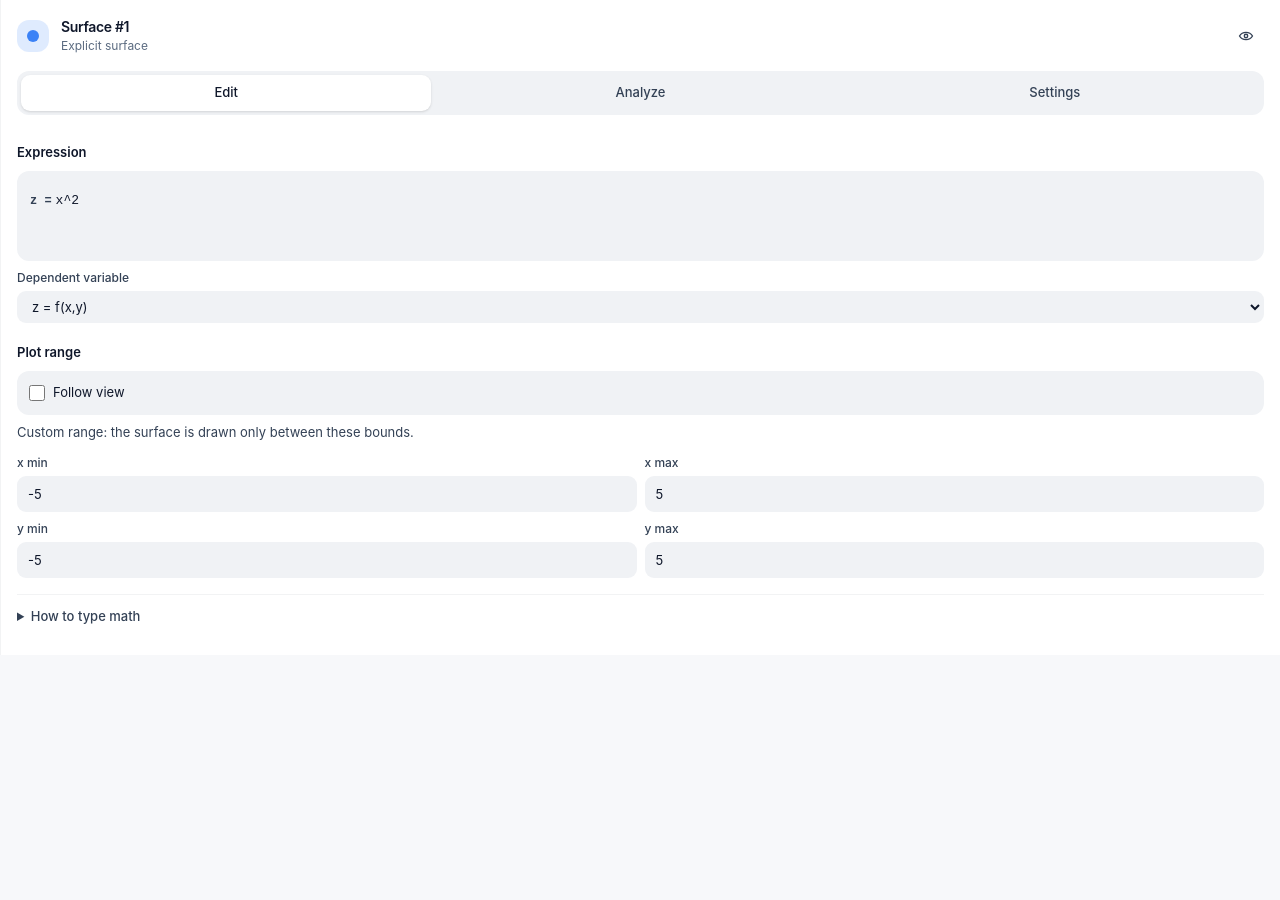
Scenario: S32 draft preservation and error-tolerant typing › invalid intermediate typing commits to canonical state and survives Object→Analyze→Object
The width and height of the screenshot is (1280, 900).
# Transient invalid intermediate: canonical commit keeps it editable.
Replace the text in the field named "Surface expression z = f(x,y)" with "sin(" at (653, 200), box [56,184,1251,216]
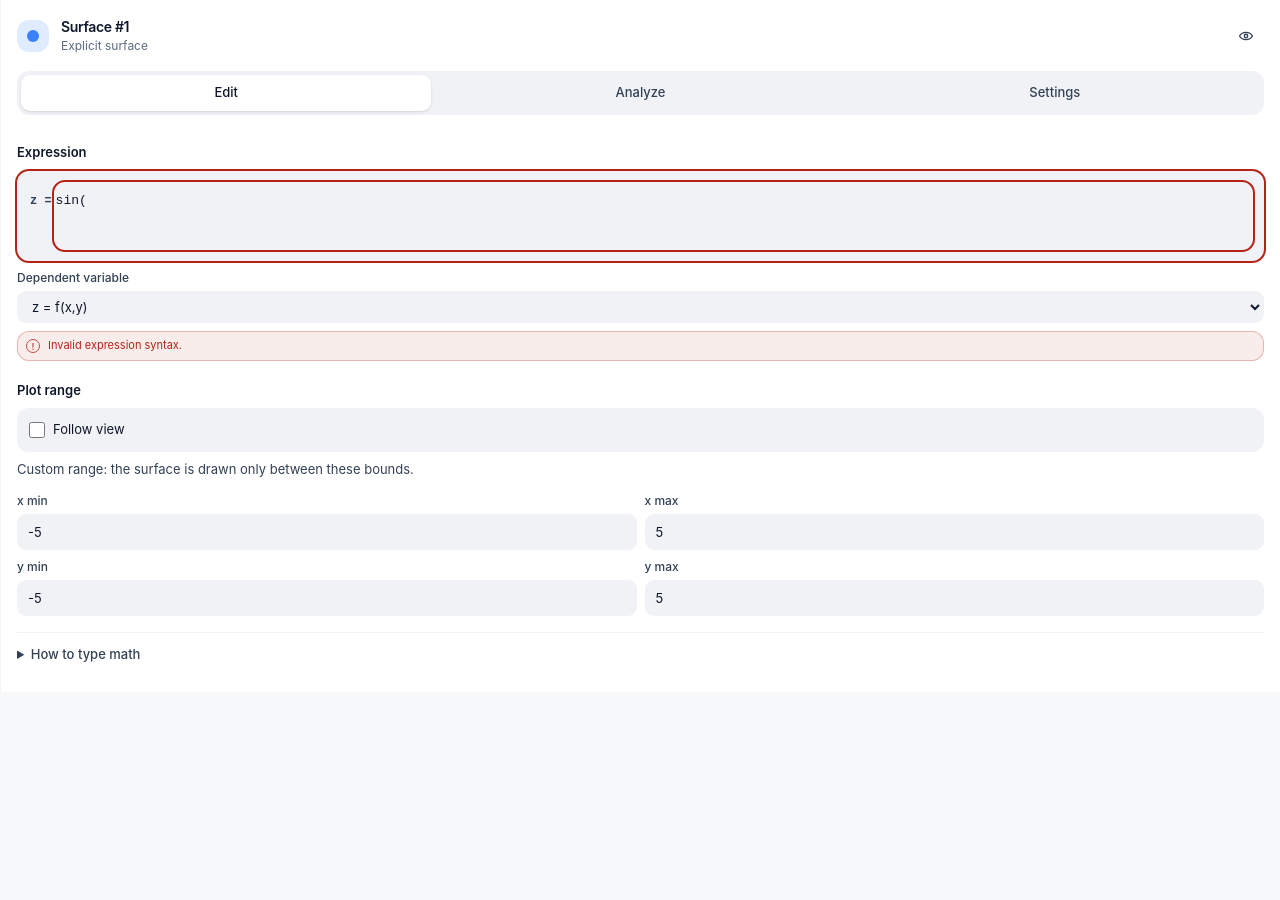
Click the tab "Analyze" at (640, 93), box [435,75,846,111]
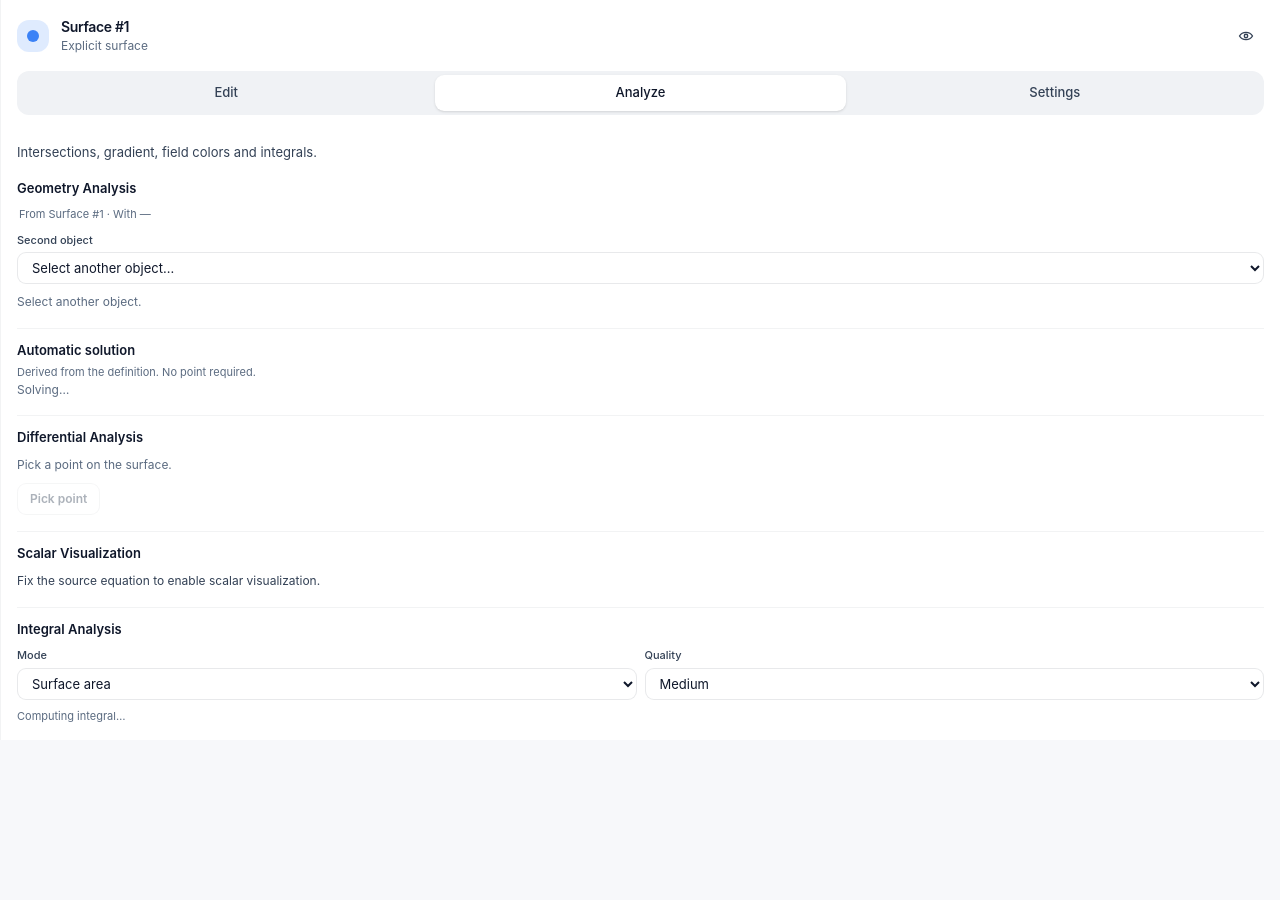
Click the tab "Edit" at (226, 93), box [21,75,431,111]
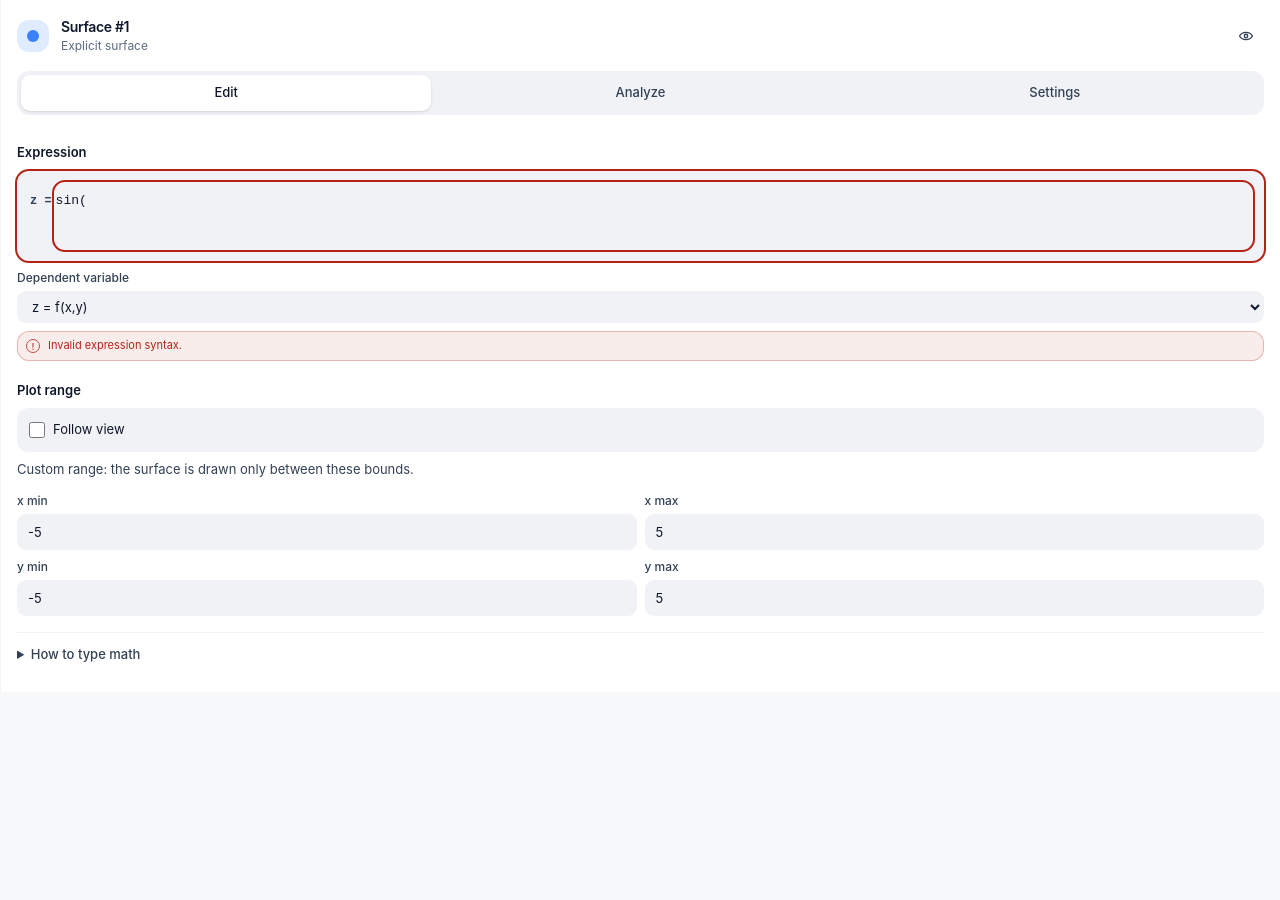
Now the field named "Surface expression z = f(x,y)" holds "sin(", box [56,184,1251,216]
